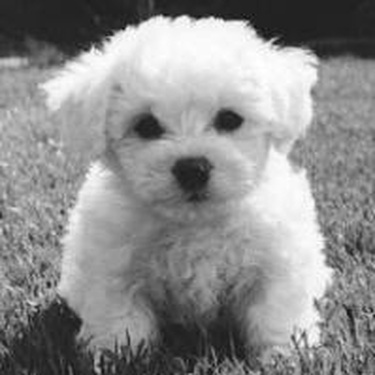dog: (24, 10, 343, 360)
